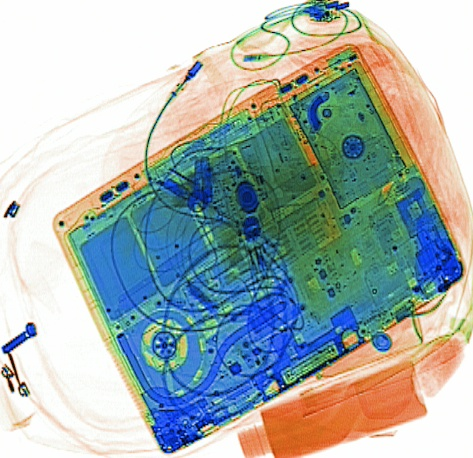pressure: (292, 298, 424, 387)
